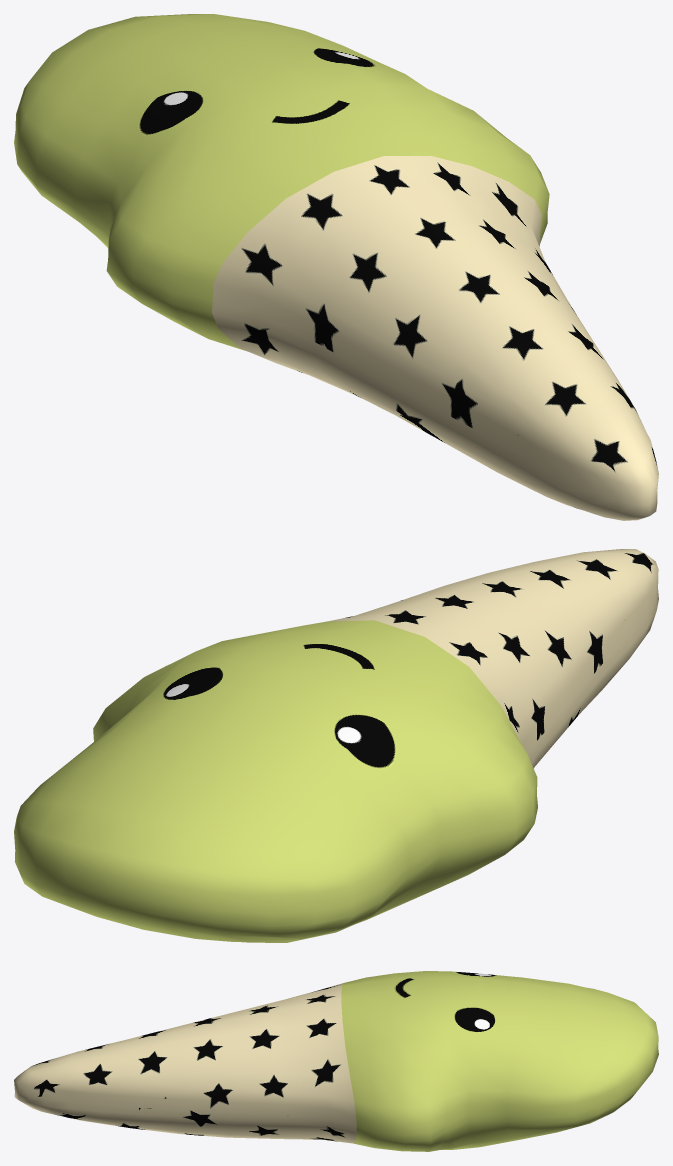
The model's file is Ice cream cushion.fbx.
3 renders of one model, top to bottom at view 1: azimuth 30°, elevation 25°; view 2: azimuth 150°, elevation 25°; view 3: azimuth 270°, elevation 25°, orthographic. The views are drawn at different scales.
Parts seen in each view (by area): view 1: ice cream cushion 1; view 2: ice cream cushion 1; view 3: ice cream cushion 1.
Part boxes in pixels (x1,y1,x2,y2): ice cream cushion 1: (14,14,658,520); ice cream cushion 1: (14,549,658,942); ice cream cushion 1: (14,971,658,1151).
Bounding box in the file's own units: 16.88 × 8.56 × 37.08.
Materials: 1 (1 with a texture image).
